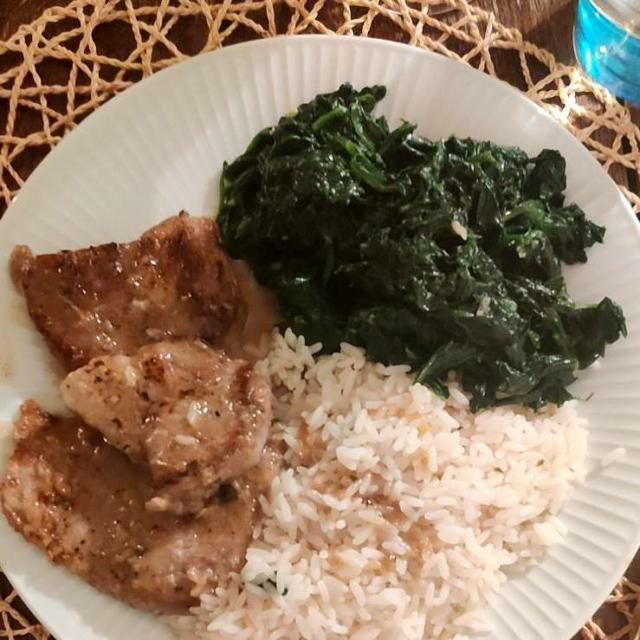rice: (183, 336, 594, 635)
spinach: (220, 86, 617, 399)
